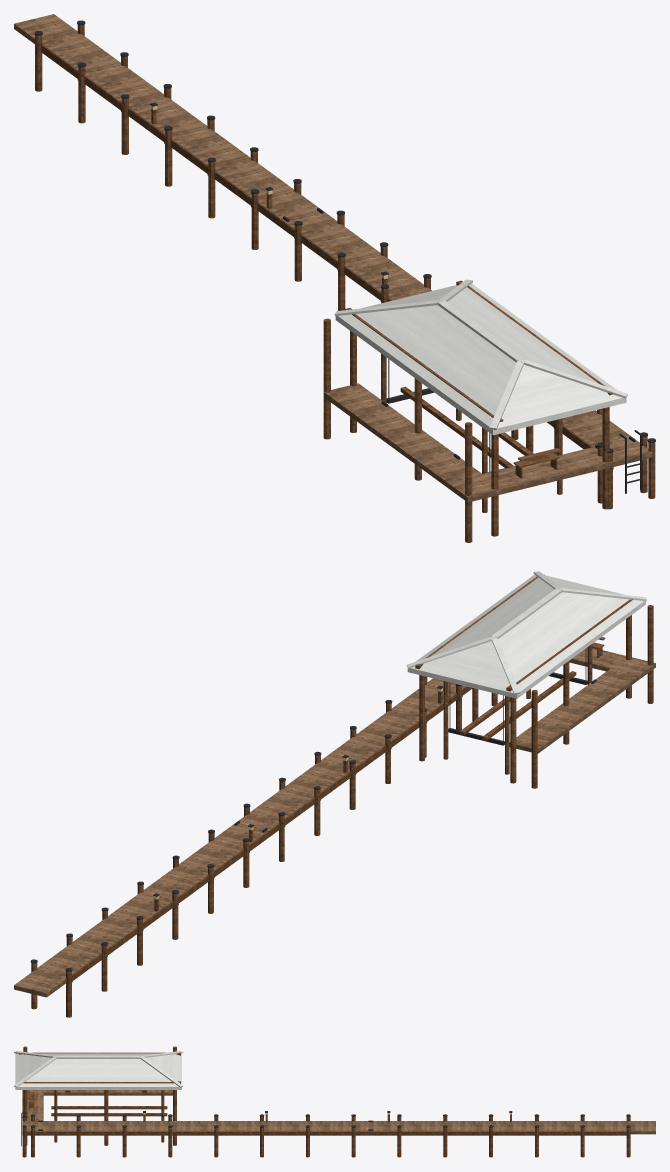
The model's file is med_longdock_boathouse.fbx.
The picture shows the model from 3 angles, top to bottom: view 1: azimuth 30°, elevation 25°; view 2: azimuth 150°, elevation 25°; view 3: azimuth 270°, elevation 25°; orthographic projection. The views are drawn at different scales.
Visible parts, largest first — view 1: med_longdock_boathouse_LOD0; view 2: med_longdock_boathouse_LOD0; view 3: med_longdock_boathouse_LOD0.
Part boxes in pixels (bbox=[...]): med_longdock_boathouse_LOD0: bbox=[14, 14, 655, 542]; med_longdock_boathouse_LOD0: bbox=[14, 571, 655, 1017]; med_longdock_boathouse_LOD0: bbox=[14, 1046, 655, 1157].
Size of what is drawn, in the model's own units: 7.6 by 5.46 by 42.04.
Materials: 1 (1 with a texture image).
